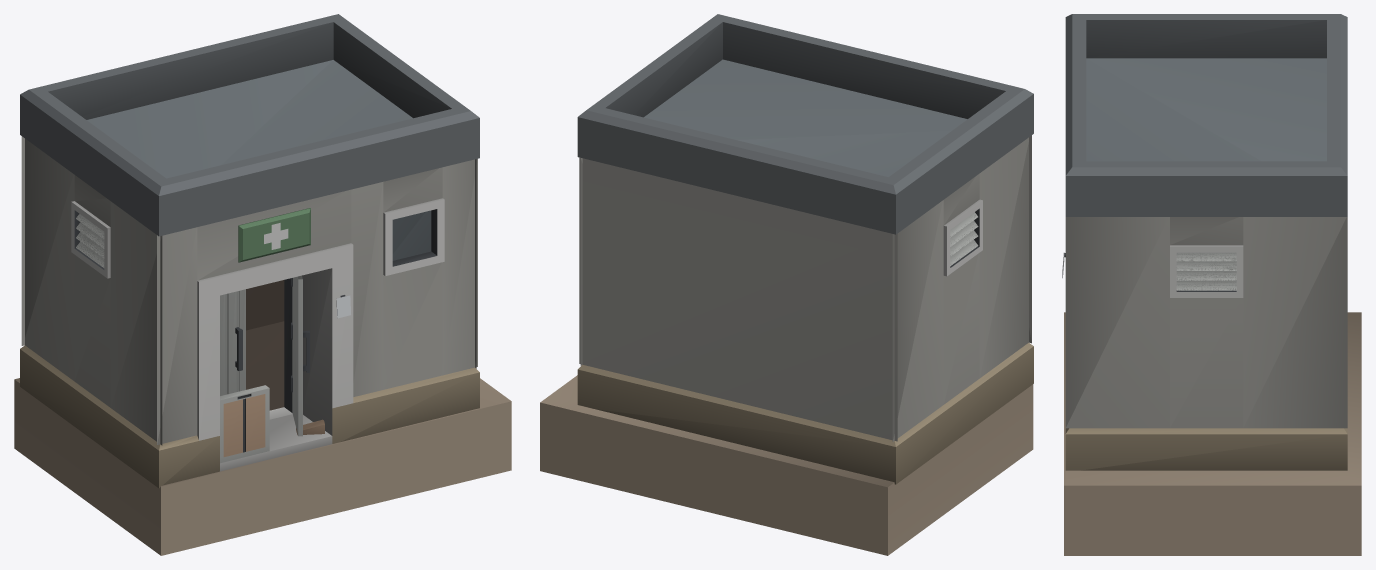
File: firstaid.glb
The picture shows the model from 3 angles, left to right: view 1: azimuth 30°, elevation 25°; view 2: azimuth 150°, elevation 25°; view 3: azimuth 270°, elevation 25°; orthographic projection. The views are drawn at different scales.
Visible parts, largest first — view 1: firstaid; view 2: firstaid; view 3: firstaid.
Part boxes in pixels (<box>): firstaid: <box>14,14,511,555</box>; firstaid: <box>540,14,1033,555</box>; firstaid: <box>1062,14,1361,555</box>.
Bounding box in the file's own units: 5.48 × 5.44 × 3.98.
